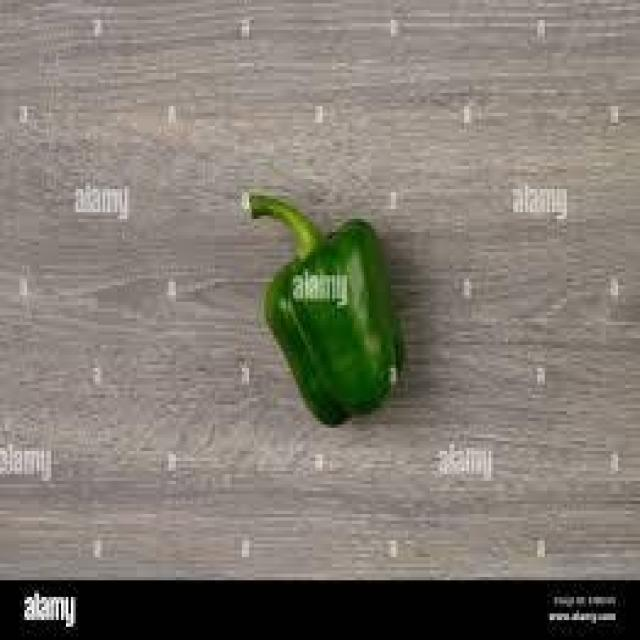bell_pepper: (237, 185, 421, 431)
